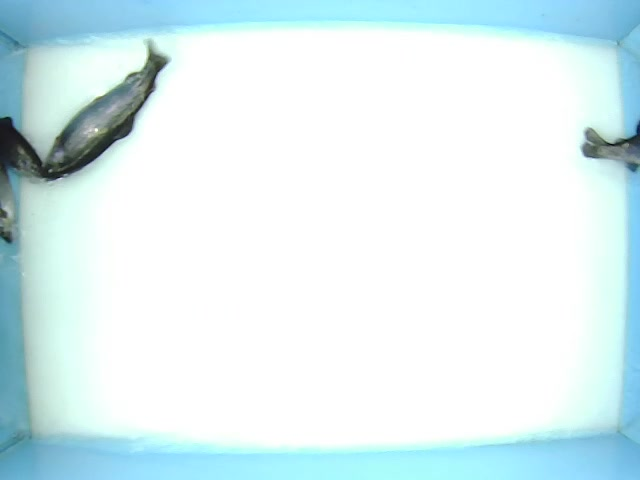fish: (39, 35, 171, 184)
